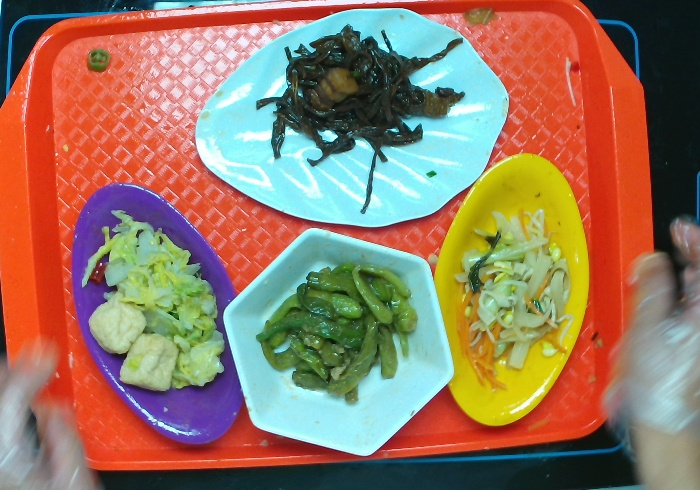RJxy-Bai_Ye_Pan: (191, 6, 516, 231)
RJxy-Fen_Hong_Tuo_Yuan: (60, 177, 253, 450)
RJxy-Huang_Se_Tuo_Yuan: (431, 147, 596, 436)
RJxy-Liu_Jiao_Wan: (210, 220, 459, 463)
